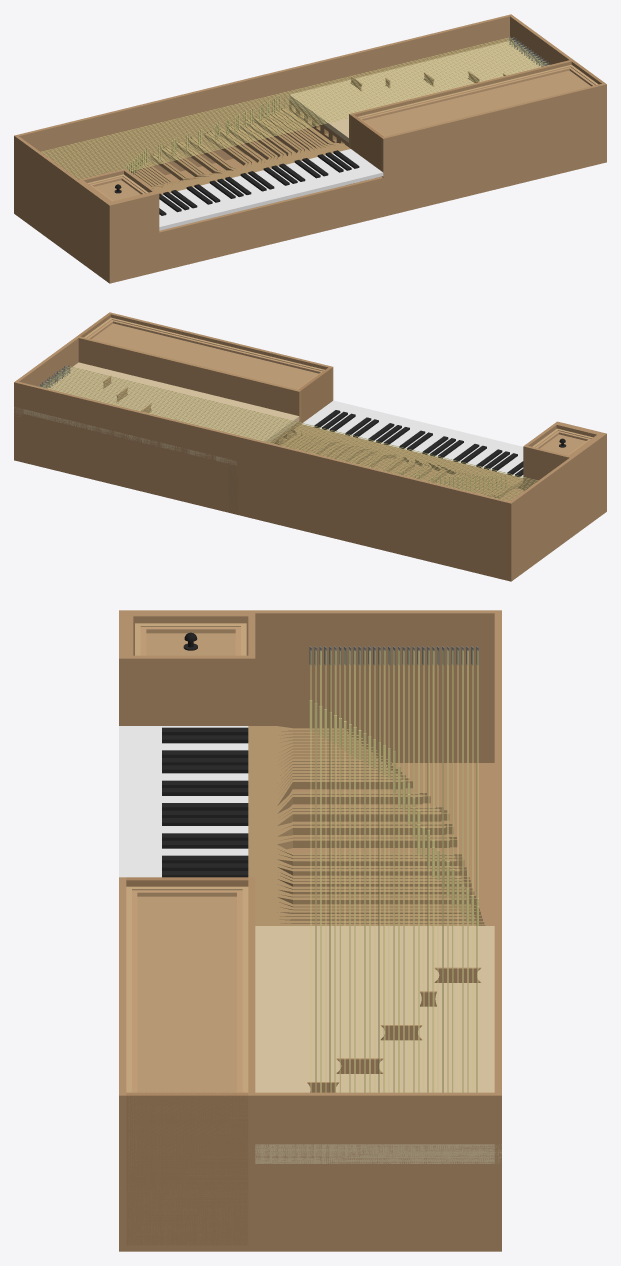
Rendered from key_levers_and_tangents.glb.
3 views of the same model, one above another, from view 1: azimuth 30°, elevation 25°; view 2: azimuth 150°, elevation 25°; view 3: azimuth 270°, elevation 25° (orthographic). The views are drawn at different scales.
Size of the model in its own units: 1.44 by 0.2204 by 0.4812.
